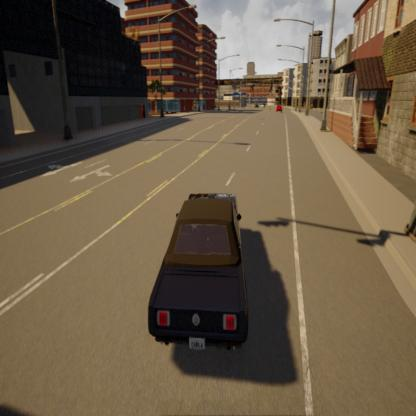Cars: (149, 188, 248, 364), (275, 104, 283, 113)
